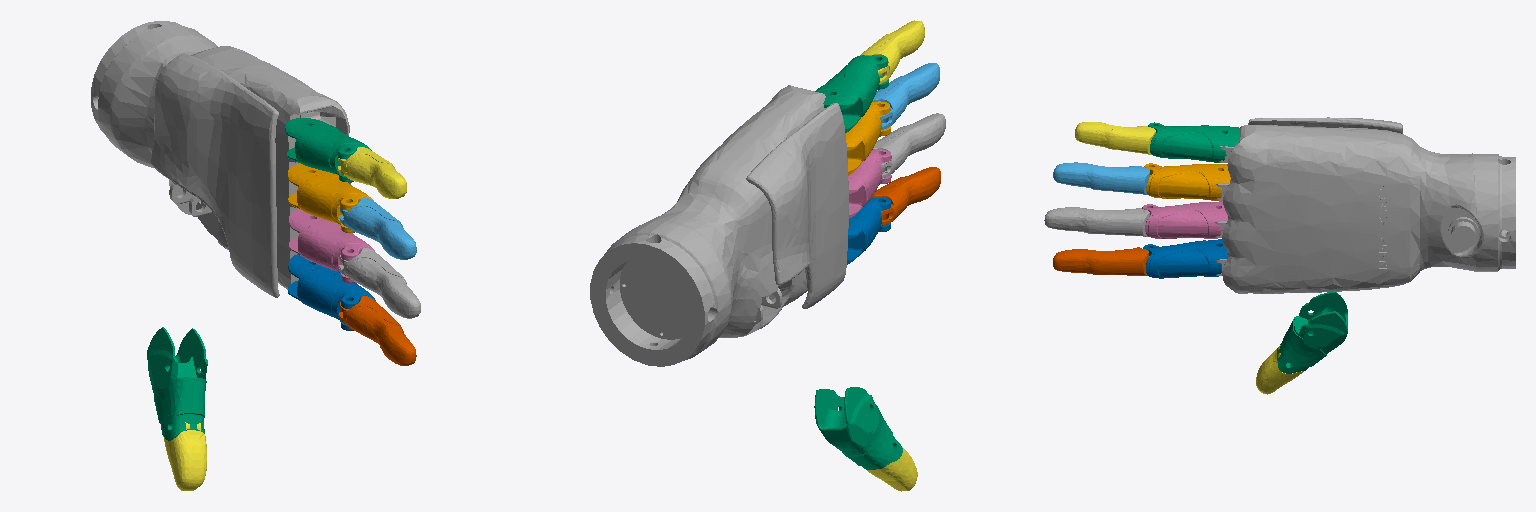
The robot description file, URDF, robot "inspire_hand_right":
<?xml version="1.0" encoding="utf-8"?>
<robot name="inspire_hand_right">
  <!--  modified: 6-DoF virtual base for wrist motion -->
  <link name="world"/>
  <joint name="world_to_base" type="fixed">
    <parent link="world"/>
    <child link="allegro_root0"/>
  </joint>
  <link name="allegro_root0">
    <inertial>
      <mass value="0.0"/>
      <inertia ixx="0" ixy="0" ixz="0" iyy="0" iyz="0" izz="0"/>
    </inertial>
  </link>
  <link name="allegro_root1">
    <inertial>
      <mass value="0.0"/>
      <inertia ixx="0" ixy="0" ixz="0" iyy="0" iyz="0" izz="0"/>
    </inertial>
  </link>
  <link name="allegro_root2">
    <inertial>
      <mass value="0.0"/>
      <inertia ixx="0" ixy="0" ixz="0" iyy="0" iyz="0" izz="0"/>
    </inertial>
  </link>
  <link name="allegro_root3">
    <inertial>
      <mass value="0.0"/>
      <inertia ixx="0" ixy="0" ixz="0" iyy="0" iyz="0" izz="0"/>
    </inertial>
  </link>
  <link name="allegro_root4">
    <inertial>
      <mass value="0.0"/>
      <inertia ixx="0" ixy="0" ixz="0" iyy="0" iyz="0" izz="0"/>
    </inertial>
  </link>
  <link name="allegro_root5">
    <inertial>
      <mass value="0.0"/>
      <inertia ixx="0" ixy="0" ixz="0" iyy="0" iyz="0" izz="0"/>
    </inertial>
  </link>
  <joint name="x_joint" type="prismatic">
    <axis xyz="1 0 0"/>
    <limit lower="-0.5" upper="0.5"/>
    <parent link="allegro_root0"/>
    <child link="allegro_root1"/>
    <dynamics damping="10.0" friction="0.0001"/>
  </joint>
  <joint name="y_joint" type="prismatic">
    <axis xyz="0 1 0"/>
    <limit lower="-0.5" upper="0.5"/>
    <parent link="allegro_root1"/>
    <child link="allegro_root2"/>
    <dynamics damping="10.0" friction="0.0001"/>
  </joint>
  <joint name="z_joint" type="prismatic">
    <axis xyz="0 0 1"/>
    <limit lower="-0.5" upper="0.5"/>
    <parent link="allegro_root2"/>
    <child link="allegro_root3"/>
    <dynamics damping="10.0" friction="0.0001"/>
  </joint>
  <joint name="x_rotation_joint" type="revolute">
    <axis xyz="1 0 0"/>
    <limit lower="-3.14" upper="3.14"/>
    <parent link="allegro_root3"/>
    <child link="allegro_root4"/>
    <dynamics damping="10.0" friction="0.0001"/>
  </joint>
  <joint name="y_rotation_joint" type="revolute">
    <axis xyz="0 1 0"/>
    <limit lower="-3.14" upper="3.14"/>
    <parent link="allegro_root4"/>
    <child link="allegro_root5"/>
    <dynamics damping="10.0" friction="0.0001"/>
  </joint>
  <joint name="z_rotation_joint" type="revolute">
    <axis xyz="0 0 1"/>
    <limit lower="-3.14" upper="3.14"/>
    <parent link="allegro_root5"/>
    <child link="hand_base_link"/>
    <dynamics damping="10.0" friction="0.0001"/>
  </joint>
  <!-- modified: removed original base link and joint to use 6-DoF virtual base -->
  <!-- <link name="base"/> -->
  <!-- <joint name="base_joint" type="fixed"> -->
  <!--   <parent link="base"/> -->
  <!--   <child link="hand_base_link"/> -->
  <!--   <origin xyz="0 0 0" rpy="-1.57079 0 3.14159"/> -->
  <!-- </joint> -->
  <!-- palm -->
  <link name="hand_base_link">
    <inertial>
      <origin rpy="0 0 0" xyz="-0.0025264 -0.066047 0.0019598"/>
      <mass value="0.14143"/>
      <inertia ixx="0.00012281" ixy="2.1711E-06" ixz="1.7709E-06" iyy="8.3832E-05" iyz="-1.6551E-06" izz="7.6663E-05"/>
    </inertial>
    <visual>
      <origin rpy="0 0 0" xyz="0 0 0"/>
      <geometry>
        <mesh filename="meshes/visual/right_base_link.obj"/>
      </geometry>
    </visual>
    <!-- <collision>
      <origin rpy="1.57079 0 0" xyz="0 -0.0136 0"/>
      <geometry>
        <cylinder length="0.0278" radius="0.028"/>
      </geometry>
    </collision>
    <collision>
      <origin rpy="0 0 0" xyz="-0.0032 -0.038 0"/>
      <geometry>
        <box size="0.0391 0.0202 0.0574"/>
      </geometry>
    </collision>-->
    <collision>
      <origin rpy="0 0 0" xyz="-0.0032 -0.0682 0"/>
      <geometry>
        <box size="0.0391 0.04 0.0414"/>
      </geometry>
    </collision>
    <collision>
      <origin rpy="0 0 0" xyz="0 -0.1081 0"/>
      <geometry>
        <box size="0.0262 0.03 0.0714"/>
      </geometry>
    </collision>
    <collision>
      <origin rpy="0 0 0" xyz="-0.0016 -0.1340 0.0309"/>
      <geometry>
        <box size="0.0125 0.0111 0.0089"/>
      </geometry>
    </collision>
    <collision>
      <origin rpy="0 0 0" xyz="-0.0016 -0.1340 0.0118"/>
      <geometry>
        <box size="0.0125 0.0111 0.0089"/>
      </geometry>
    </collision> 
    <collision>
      <origin rpy="0 0 0" xyz="-0.0016 -0.1340 -0.0070"/>
      <geometry>
        <box size="0.0125 0.0111 0.0089"/>
      </geometry>
    </collision>
    <collision>
      <origin rpy="0 0 0" xyz="-0.0016 -0.1340 -0.0262"/>
      <geometry>
        <box size="0.0125 0.0111 0.0089"/>
      </geometry>
    </collision> 
  </link>
  <!-- thumb -->
  <link name="thumb_proximal_base">
    <inertial>
      <origin rpy="0 0 0" xyz="-0.0048064 0.0009382 -0.00757"/>
      <mass value="0.0018869"/>
      <inertia ixx="5.816E-08" ixy="1.4539E-08" ixz="4.491E-09" iyy="7.9161E-08" iyz="-1.8727E-09" izz="6.7433E-08"/>
    </inertial>
    <visual>
      <origin rpy="0 0 0" xyz="0 0 0"/>
      <geometry>
        <mesh filename="meshes/visual/right_thumb_proximal_base.obj"/>
      </geometry>
    </visual>
    <collision>
      <origin rpy="0 0 0" xyz="0 0 0"/>
      <geometry>
        <mesh filename="meshes/collision/right_thumb_proximal_base.obj"/>
      </geometry>
      <!-- modified: Reverted to original mesh for visualization -->
    </collision>
  </link>
  <joint name="thumb_proximal_yaw_joint" type="revolute">
    <origin rpy="1.5708 -1.5708 0" xyz="-0.01696 -0.0691 -0.02045"/>
    <parent link="hand_base_link"/>
    <child link="thumb_proximal_base"/>
    <axis xyz="0 0 -1"/>
    <limit effort="1" lower="0.0" upper="1.308" velocity="7"/>
    <dynamics damping="1.0" friction="0.0001"/>
  </joint>
  <link name="thumb_proximal">
    <inertial>
      <origin rpy="0 0 0" xyz="0.021932 0.012785 -0.0080386"/>
      <mass value="0.0066075"/>
      <inertia ixx="1.5686E-06" ixy="-7.8296E-07" ixz="8.9143E-10" iyy="1.7353E-06" iyz="-1.0191E-09" izz="2.786E-06"/>
    </inertial>
    <visual>
      <origin rpy="0 0 0" xyz="0 0 0"/>
      <geometry>
        <mesh filename="meshes/visual/right_thumb_proximal.obj"/>
      </geometry>
    </visual>
    <collision>
      <origin rpy="0 0 0" xyz="0 0 0"/>
      <geometry>
        <mesh filename="meshes/collision/right_thumb_proximal.obj"/>
      </geometry>
      <!-- modified: Reverted to original mesh for visualization -->
    </collision>
  </link>
  <joint name="thumb_proximal_pitch_joint" type="revolute">
    <origin rpy="1.5708 0 2.8587" xyz="-0.0088099 0.010892 -0.00925"/>
    <parent link="thumb_proximal_base"/>
    <child link="thumb_proximal"/>
    <axis xyz="0 0 1"/>
    <limit effort="1" lower="0" upper="0.6" velocity="7"/>
    <dynamics damping="1.0" friction="0.0001"/>
  </joint>
  <link name="thumb_intermediate">
    <inertial>
      <origin rpy="0 0 0" xyz="0.0095544 -0.0016282 -0.0071997"/>
      <mass value="0.0037847"/>
      <inertia ixx="3.6981E-07" ixy="-9.8581E-08" ixz="-4.7469E-12" iyy="3.2394E-07" iyz="1.0939E-12" izz="4.6531E-07"/>
    </inertial>
    <visual>
      <origin rpy="0 0 0" xyz="0 0 0"/>
      <geometry>
        <mesh filename="meshes/visual/right_thumb_intermediate.obj"/>
      </geometry>
    </visual>
    <collision>
      <origin rpy="0 0 0" xyz="0 0 0"/>
      <geometry>
        <mesh filename="meshes/collision/right_thumb_intermediate.obj"/>
      </geometry>
      <!-- modified: Reverted to original mesh for visualization -->
    </collision>
  </link>
  <joint name="thumb_intermediate_joint" type="revolute">
    <origin rpy="0 0 0" xyz="0.04407 0.034553 -0.0008"/>
    <parent link="thumb_proximal"/>
    <child link="thumb_intermediate"/>
    <axis xyz="0 0 1"/>
    <limit effort="1" lower="0" upper="0.8" velocity="7"/>
    <mimic joint="thumb_proximal_pitch_joint" multiplier="1.334" offset="0"/>
    <!-- 模仿关节，模仿pitch的幅度，以multiplier倍+offset运动 -->
    <dynamics damping="1.0" friction="0.0001"/>
  </joint>
  <link name="thumb_distal">
    <inertial>
      <origin rpy="0 0 0" xyz="0.0092888 0.0049529 -0.0060033"/>
      <mass value="0.0033441"/>
      <inertia ixx="1.3632E-07" ixy="-5.6788E-08" ixz="-9.2764E-11" iyy="1.4052E-07" iyz="-1.2283E-10" izz="2.0026E-07"/>
    </inertial>
    <visual>
      <origin rpy="0 0 0" xyz="0 0 0"/>
      <geometry>
        <mesh filename="meshes/visual/right_thumb_distal.obj"/>
      </geometry>
    </visual>
    <collision>
      <origin rpy="0 0 0" xyz="0 0 0"/>
      <geometry>
        <mesh filename="meshes/collision/right_thumb_distal.obj"/>
      </geometry>
      <!-- modified: Reverted to original mesh for visualization -->
    </collision>
  </link>
  <joint name="thumb_distal_joint" type="revolute">
    <origin rpy="0 0 0" xyz="0.020248 0.010156 -0.0012"/>
    <parent link="thumb_intermediate"/>
    <child link="thumb_distal"/>
    <axis xyz="0 0 1"/>
    <limit effort="1" lower="0" upper="0.4" velocity="7"/>
    <mimic joint="thumb_proximal_pitch_joint" multiplier="0.667" offset="0"/>
    <dynamics damping="1.0" friction="0.0001"/>
  </joint>
  <link name="index_proximal">
    <inertial>
      <origin rpy="0 0 0" xyz="0.0012259 0.011942 -0.0060001"/>
      <mass value="0.0042403"/>
      <inertia ixx="6.6232E-07" ixy="-1.5775E-08" ixz="1.8515E-12" iyy="2.1146E-07" iyz="-5.0828E-12" izz="6.9398E-07"/>
    </inertial>
    <visual>
      <origin rpy="0 0 0" xyz="0 0 0"/>
      <geometry>
        <mesh filename="meshes/visual/right_index_proximal.obj"/>
      </geometry>
    </visual>
    <collision>
      <origin rpy="0 0 0" xyz="0 0 0"/>
      <geometry>
        <mesh filename="meshes/collision/right_index_proximal.obj"/>
      </geometry>
      <!-- modified: Reverted to original mesh for visualization -->
    </collision>
  </link>
  <joint name="index_proximal_joint" type="revolute">
    <origin rpy="-3.1067 0 0" xyz="0.00028533 -0.13653 -0.032268"/>
    <parent link="hand_base_link"/>
    <child link="index_proximal"/>
    <axis xyz="0 0 1"/>
    <limit effort="1" lower="0" upper="1.47" velocity="7"/>
    <dynamics damping="1.0" friction="0.0001"/>
  </joint>
  <link name="index_intermediate">
    <inertial>
      <origin rpy="0 0 0" xyz="0.0019697 0.019589 -0.005"/>
      <mass value="0.0045683"/>
      <inertia ixx="7.6111E-07" ixy="8.7637E-08" ixz="-3.7751E-13" iyy="9.6076E-08" iyz="9.9444E-13" izz="7.8179E-07"/>
    </inertial>
    <visual>
      <origin rpy="0 0 0" xyz="0 0 0"/>
      <geometry>
        <mesh filename="meshes/visual/right_index_intermediate.obj"/>
      </geometry>
    </visual>
    <collision>
      <origin rpy="0 0 0" xyz="0 0 0"/>
      <geometry>
        <mesh filename="meshes/collision/right_index_intermediate.obj"/>
      </geometry>
      <!-- modified: Reverted to original mesh for visualization -->
    </collision>
  </link>
  <joint name="index_intermediate_joint" type="revolute">
    <origin rpy="0 0 0" xyz="-0.0026138 0.032026 -0.001"/>
    <parent link="index_proximal"/>
    <child link="index_intermediate"/>
    <axis xyz="0 0 1"/>
    <limit effort="1" lower="-0.04545" upper="1.56" velocity="7"/>
    <mimic joint="index_proximal_joint" multiplier="1.06399" offset="-0.04545"/>
    <dynamics damping="1.0" friction="0.0001"/>
  </joint>
  <link name="middle_proximal">
    <inertial>
      <origin rpy="0 0 0" xyz="0.001297 0.011934 -0.0060001"/>
      <mass value="0.0042403"/>
      <inertia ixx="6.6211E-07" ixy="-1.8461E-08" ixz="1.8002E-12" iyy="2.1167E-07" iyz="-6.6808E-12" izz="6.9397E-07"/>
    </inertial>
    <visual>
      <origin rpy="0 0 0" xyz="0 0 0"/>
      <geometry>
        <mesh filename="meshes/visual/right_index_proximal.obj"/>
      </geometry>
    </visual>
    <collision>
      <origin rpy="0 0 0" xyz="0 0 0"/>
      <geometry>
        <mesh filename="meshes/collision/right_index_proximal.obj"/>
      </geometry>
      <!-- modified: Reverted to original mesh for visualization -->
    </collision>
  </link>
  <joint name="middle_proximal_joint" type="revolute">
    <origin rpy="-3.1416 0 0" xyz="0.00028533 -0.1371 -0.01295"/>
    <parent link="hand_base_link"/>
    <child link="middle_proximal"/>
    <axis xyz="0 0 1"/>
    <limit effort="1" lower="0" upper="1.47" velocity="7"/>
    <dynamics damping="1.0" friction="0.0001"/>
  </joint>
  <link name="middle_intermediate">
    <inertial>
      <origin rpy="0 0 0" xyz="0.001921 0.020796 -0.005"/>
      <mass value="0.0050396"/>
      <inertia ixx="9.5822E-07" ixy="1.1425E-07" ixz="-2.4791E-12" iyy="1.0646E-07" iyz="5.9173E-12" izz="9.8384E-07"/>
    </inertial>
    <visual>
      <origin rpy="0 0 0" xyz="0 0 0"/>
      <geometry>
        <mesh filename="meshes/visual/right_middle_intermediate.obj"/>
      </geometry>
    </visual>
    <collision>
      <origin rpy="0 0 0" xyz="0 0 0"/>
      <geometry>
        <mesh filename="meshes/collision/right_middle_intermediate.obj"/>
      </geometry>
      <!-- modified: Reverted to original mesh for visualization -->
    </collision>
  </link>
  <joint name="middle_intermediate_joint" type="revolute">
    <origin rpy="0 0 0" xyz="-0.0024229 0.032041 -0.001"/>
    <parent link="middle_proximal"/>
    <child link="middle_intermediate"/>
    <axis xyz="0 0 1"/>
    <limit effort="1" lower="-0.04545" upper="1.56" velocity="7"/>
    <mimic joint="middle_proximal_joint" multiplier="1.06399" offset="-0.04545"/>
    <dynamics damping="1.0" friction="0.0001"/>
  </joint>
  <link name="ring_proximal">
    <inertial>
      <origin rpy="0 0 0" xyz="0.001297 0.011934 -0.0060002"/>
      <mass value="0.0042403"/>
      <inertia ixx="6.6211E-07" ixy="-1.8461E-08" ixz="1.5793E-12" iyy="2.1167E-07" iyz="-6.6868E-12" izz="6.9397E-07"/>
    </inertial>
    <visual>
      <origin rpy="0 0 0" xyz="0 0 0"/>
      <geometry>
        <mesh filename="meshes/visual/right_index_proximal.obj"/>
      </geometry>
    </visual>
    <collision>
      <origin rpy="0 0 0" xyz="0 0 0"/>
      <geometry>
        <mesh filename="meshes/collision/right_index_proximal.obj"/>
      </geometry>
      <!-- modified: Reverted to original mesh for visualization -->
    </collision>
  </link>
  <joint name="ring_proximal_joint" type="revolute">
    <origin rpy="3.0892 0 0" xyz="0.00028533 -0.13691 0.0062872"/>
    <parent link="hand_base_link"/>
    <child link="ring_proximal"/>
    <axis xyz="0 0 1"/>
    <limit effort="1" lower="0" upper="1.47" velocity="7"/>
    <dynamics damping="1.0" friction="0.0001"/>
  </joint>
  <link name="ring_intermediate">
    <inertial>
      <origin rpy="0 0 0" xyz="0.0021753 0.019567 -0.005"/>
      <mass value="0.0045683"/>
      <inertia ixx="7.6286E-07" ixy="8.0635E-08" ixz="-6.1562E-13" iyy="9.431E-08" iyz="5.8619E-13" izz="7.8177E-07"/>
    </inertial>
    <visual>
      <origin rpy="0 0 0" xyz="0 0 0"/>
      <geometry>
        <mesh filename="meshes/visual/right_index_intermediate.obj"/>
      </geometry>
    </visual>
    <collision>
      <origin rpy="0 0 0" xyz="0 0 0"/>
      <geometry>
        <mesh filename="meshes/collision/right_index_intermediate.obj"/>
      </geometry>
      <!-- modified: Reverted to original mesh for visualization -->
    </collision>
  </link>
  <joint name="ring_intermediate_joint" type="revolute">
    <origin rpy="0 0 0" xyz="-0.0024229 0.032041 -0.001"/>
    <parent link="ring_proximal"/>
    <child link="ring_intermediate"/>
    <axis xyz="0 0 1"/>
    <limit effort="1" lower="-0.04545" upper="1.56" velocity="7"/>
    <mimic joint="ring_proximal_joint" multiplier="1.06399" offset="-0.04545"/>
    <dynamics damping="1.0" friction="0.0001"/>
  </joint>
  <link name="pinky_proximal">
    <inertial>
      <origin rpy="0 0 0" xyz="0.001297 0.011934 -0.0060001"/>
      <mass value="0.0042403"/>
      <inertia ixx="6.6211E-07" ixy="-1.8461E-08" ixz="1.6907E-12" iyy="2.1167E-07" iyz="-6.9334E-12" izz="6.9397E-07"/>
    </inertial>
    <visual>
      <origin rpy="0 0 0" xyz="0 0 0"/>
      <geometry>
        <mesh filename="meshes/visual/right_index_proximal.obj"/>
      </geometry>
    </visual>
    <collision>
      <origin rpy="0 0 0" xyz="0 0 0"/>
      <geometry>
        <mesh filename="meshes/collision/right_index_proximal.obj"/>
      </geometry>
      <!-- modified: Reverted to original mesh for visualization -->
    </collision>
  </link>
  <joint name="pinky_proximal_joint" type="revolute">
    <origin rpy="3.0369 0 0" xyz="0.00028533 -0.13571 0.025488"/>
    <parent link="hand_base_link"/>
    <child link="pinky_proximal"/>
    <axis xyz="0 0 1"/>
    <limit effort="1" lower="0" upper="1.47" velocity="7"/>
    <dynamics damping="1.0" friction="0.0001"/>
  </joint>
  <link name="pinky_intermediate">
    <inertial>
      <origin rpy="0 0 0" xyz="0.0024748 0.016203 -0.0050031"/>
      <mass value="0.0035996"/>
      <inertia ixx="4.3913E-07" ixy="4.1418E-08" ixz="3.7168E-11" iyy="7.0247E-08" iyz="5.8613E-11" izz="4.4867E-07"/>
    </inertial>
    <visual>
      <origin rpy="0 0 0" xyz="0 0 0"/>
      <geometry>
        <mesh filename="meshes/visual/right_pinky_intermediate.obj"/>
      </geometry>
    </visual>
    <collision>
      <origin rpy="0 0 0" xyz="0 0 0"/>
      <geometry>
        <mesh filename="meshes/collision/right_pinky_intermediate.obj"/>
      </geometry>
      <!-- modified: Reverted to original mesh for visualization -->
    </collision>
  </link>
  <joint name="pinky_intermediate_joint" type="revolute">
    <origin rpy="0 0 0" xyz="-0.0024229 0.032041 -0.001"/>
    <parent link="pinky_proximal"/>
    <child link="pinky_intermediate"/>
    <axis xyz="0 0 1"/>
    <limit effort="1" lower="-0.04545" upper="1.56" velocity="7"/>
    <mimic joint="pinky_proximal_joint" multiplier="1.06399" offset="-0.04545"/>
    <dynamics damping="1.0" friction="0.0001"/>
  </joint>
  <link name="thumb_tip_head">
    <inertial>
      <mass value="0.0"/>
      <inertia ixx="0" ixy="0" ixz="0" iyy="0" iyz="0" izz="0"/>
    </inertial>
  </link>
  <joint name="thumb_tip_joint" type="fixed">
    <origin rpy="0 0 0" xyz="0.0202 0.0140 -0.006"/>
    <parent link="thumb_distal"/>
    <child link="thumb_tip_head"/>
  </joint>
  <link name="index_tip_head">
    <inertial>
      <mass value="0.0"/>
      <inertia ixx="0" ixy="0" ixz="0" iyy="0" iyz="0" izz="0"/>
    </inertial>
  </link>
  <joint name="index_tip_joint" type="fixed">
    <origin rpy="0 0 0" xyz="-0.0008 0.045 -0.005"/>
    <parent link="index_intermediate"/>
    <child link="index_tip_head"/>
  </joint>
  <link name="middle_tip_head">
    <inertial>
      <mass value="0.0"/>
      <inertia ixx="0" ixy="0" ixz="0" iyy="0" iyz="0" izz="0"/>
    </inertial>
  </link>
  <joint name="middle_tip_joint" type="fixed">
    <origin rpy="0 0 0" xyz="-0.001 0.048 -0.005"/>
    <parent link="middle_intermediate"/>
    <child link="middle_tip_head"/>
  </joint>
  <link name="ring_tip_head">
    <inertial>
      <mass value="0.0"/>
      <inertia ixx="0" ixy="0" ixz="0" iyy="0" iyz="0" izz="0"/>
    </inertial>
  </link>
  <joint name="ring_tip_joint" type="fixed">
    <origin rpy="0 0 0" xyz="-0.0008 0.045 -0.005"/>
    <parent link="ring_intermediate"/>
    <child link="ring_tip_head"/>
  </joint>
  <link name="pinky_tip_head">
    <inertial>
      <mass value="0.0"/>
      <inertia ixx="0" ixy="0" ixz="0" iyy="0" iyz="0" izz="0"/>
    </inertial>
  </link>
  <joint name="pinky_tip_joint" type="fixed">
    <origin rpy="0 0 0" xyz="-0.0008 0.037 -0.005"/>
    <parent link="pinky_intermediate"/>
    <child link="pinky_tip_head"/>
  </joint>
</robot>

--- What the picture shows (computed from the rendered views, not written in the file) ---
3 views of the same robot in one strip: view 1: azimuth 30°, elevation 25°; view 2: azimuth 150°, elevation 25°; view 3: azimuth 270°, elevation 25° (orthographic).
Model inspire_hand_right with 25 links and 24 joints (15 revolute, 3 prismatic, 6 fixed), rooted at world, posed every joint at zero.
Links seen in each view (by area): view 1: hand_base_link, thumb_intermediate, middle_proximal, index_proximal, ring_proximal, pinky_proximal, middle_intermediate, index_intermediate, ring_intermediate, thumb_distal, pinky_intermediate; view 2: hand_base_link, thumb_intermediate, pinky_proximal, middle_intermediate, ring_intermediate, index_intermediate, ring_proximal, pinky_intermediate, index_proximal, middle_proximal, thumb_distal; view 3: hand_base_link, thumb_intermediate, pinky_proximal, ring_proximal, middle_proximal, index_proximal, middle_intermediate, ring_intermediate, index_intermediate, pinky_intermediate, thumb_distal.
Link boxes in pixels (<box>): hand_base_link: <box>91,21,351,297</box>; thumb_intermediate: <box>147,327,207,440</box>; middle_proximal: <box>289,209,374,282</box>; index_proximal: <box>288,254,375,330</box>; ring_proximal: <box>288,164,373,232</box>; pinky_proximal: <box>285,118,371,181</box>; middle_intermediate: <box>339,248,420,318</box>; index_intermediate: <box>339,296,416,365</box>; ring_intermediate: <box>340,197,416,259</box>; thumb_distal: <box>163,422,206,490</box>; pinky_intermediate: <box>338,147,406,198</box>; hand_base_link: <box>590,85,848,366</box>; thumb_intermediate: <box>814,387,902,469</box>; pinky_proximal: <box>815,55,888,132</box>; middle_intermediate: <box>873,113,945,178</box>; ring_intermediate: <box>872,63,939,129</box>; index_intermediate: <box>872,167,940,225</box>; ring_proximal: <box>846,101,890,175</box>; pinky_intermediate: <box>860,20,924,83</box>; index_proximal: <box>847,197,890,264</box>; middle_proximal: <box>848,149,891,218</box>; thumb_distal: <box>867,447,917,491</box>; hand_base_link: <box>1215,117,1515,293</box>; thumb_intermediate: <box>1277,292,1347,373</box>; pinky_proximal: <box>1148,122,1239,162</box>; ring_proximal: <box>1144,163,1230,200</box>; middle_proximal: <box>1142,201,1227,238</box>; index_proximal: <box>1143,239,1227,278</box>; middle_intermediate: <box>1044,207,1149,236</box>; ring_intermediate: <box>1053,162,1150,194</box>; index_intermediate: <box>1053,247,1149,275</box>; pinky_intermediate: <box>1075,122,1155,154</box>; thumb_distal: <box>1256,345,1303,394</box>.
Bounding box of the posed robot: 0.0816 × 0.218 × 0.1581 m (x, y, z).
11 mesh visuals loaded from 9 distinct referenced files (7 OBJ); not drawn: 2 (reference not matched to a file when rendering).
